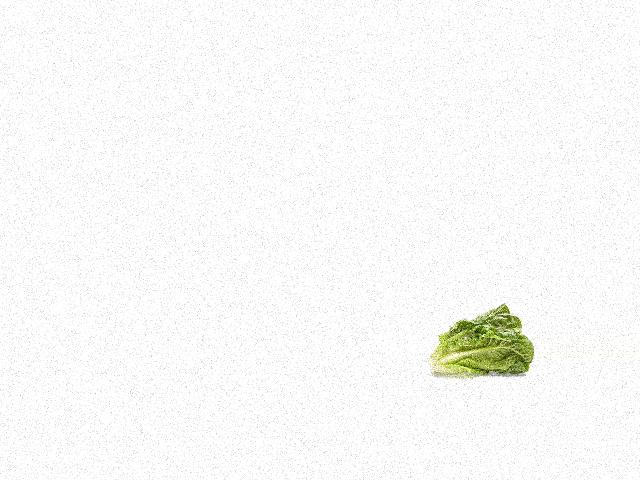lettuce: (424, 303, 534, 391)
